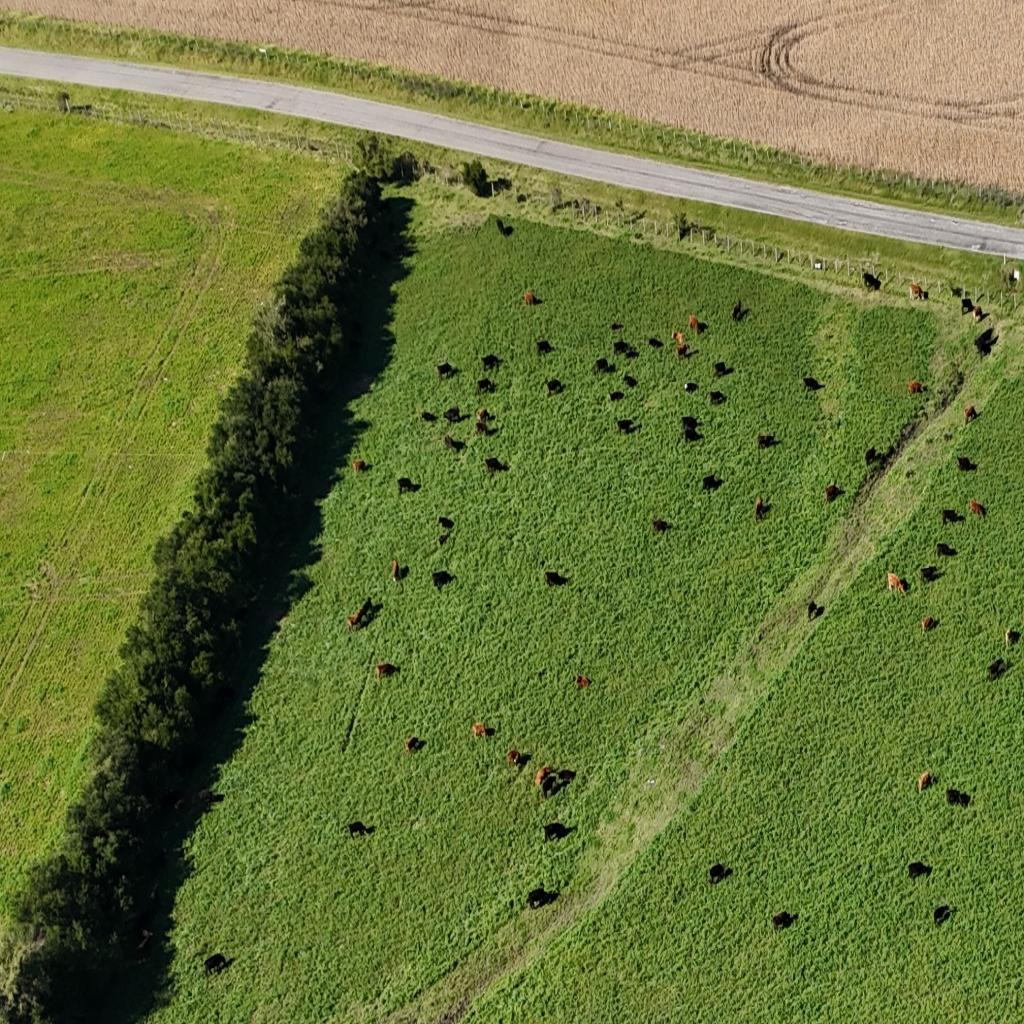cow: (526, 886, 558, 910), (347, 600, 371, 631), (974, 327, 996, 357), (203, 952, 228, 976), (542, 774, 564, 798), (946, 787, 970, 808), (544, 822, 569, 842), (887, 572, 906, 598), (708, 863, 729, 885), (772, 910, 793, 932), (347, 820, 373, 837), (161, 790, 182, 811), (908, 861, 930, 881), (987, 659, 1005, 681), (613, 339, 635, 357), (544, 570, 567, 587), (920, 565, 941, 583), (863, 271, 881, 292), (397, 477, 419, 494), (484, 457, 506, 474), (534, 766, 551, 788), (137, 930, 153, 953), (934, 904, 952, 924), (432, 570, 452, 588), (436, 362, 456, 380), (481, 354, 501, 372), (444, 434, 462, 454), (375, 662, 395, 680), (198, 788, 218, 806), (918, 771, 934, 793), (909, 280, 925, 302), (702, 474, 721, 492), (616, 418, 635, 436), (683, 426, 702, 444), (942, 509, 962, 526), (443, 407, 463, 424), (495, 217, 512, 237), (754, 496, 767, 522), (512, 752, 530, 770), (1004, 629, 1018, 652), (936, 542, 956, 558), (882, 447, 898, 467), (476, 408, 490, 430), (758, 433, 776, 450), (476, 377, 494, 394), (956, 456, 974, 472), (535, 339, 553, 355), (825, 484, 841, 502), (405, 736, 421, 754), (865, 446, 879, 466), (713, 361, 730, 377), (803, 376, 820, 392), (472, 722, 488, 739), (558, 768, 575, 784), (970, 498, 984, 517), (506, 748, 520, 767), (710, 390, 726, 406), (595, 358, 611, 374), (546, 378, 562, 394), (522, 290, 538, 306), (652, 518, 669, 533), (680, 416, 698, 430), (420, 410, 438, 424), (964, 406, 978, 424), (688, 314, 702, 332), (675, 342, 688, 361), (732, 300, 743, 322), (907, 380, 923, 395), (922, 616, 936, 633), (392, 558, 402, 581), (677, 223, 689, 242), (575, 674, 590, 689), (438, 516, 454, 530), (352, 458, 366, 474), (962, 297, 974, 315), (345, 614, 357, 632), (360, 598, 372, 616), (972, 306, 984, 323), (350, 337, 362, 354), (623, 374, 637, 388), (648, 337, 663, 350), (438, 532, 450, 548), (808, 601, 818, 620), (1014, 628, 1024, 647), (609, 390, 624, 402), (684, 380, 698, 392), (610, 321, 624, 332), (516, 194, 527, 204)
